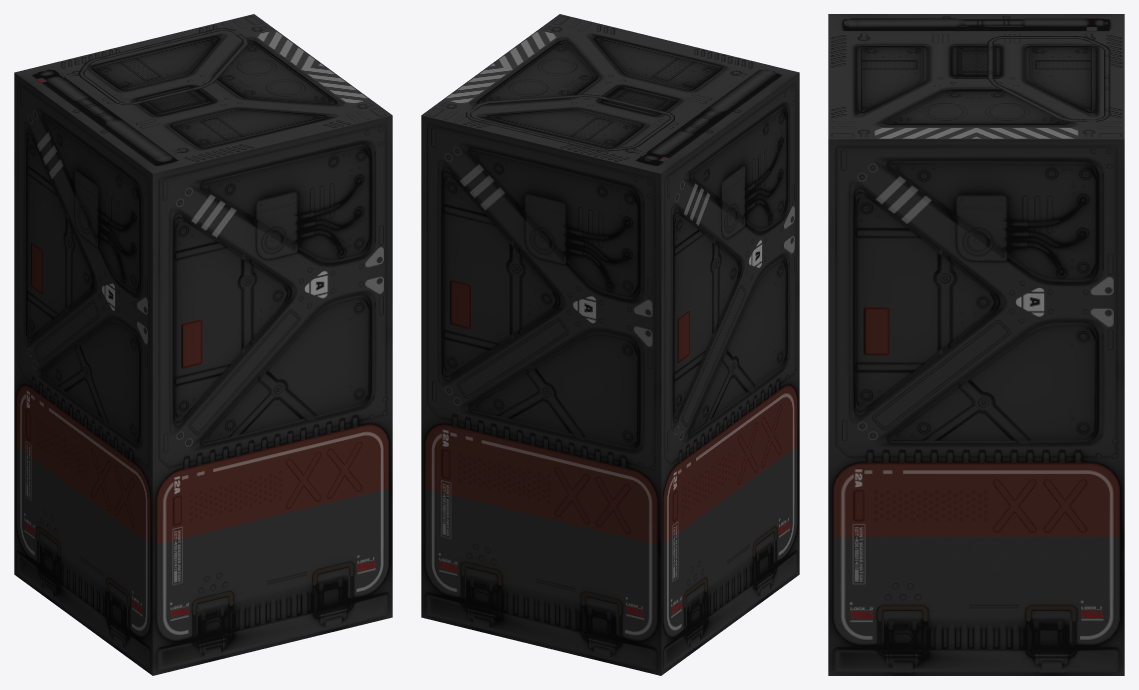
File: Panel_A_Box_1_L3.FBX
3 renders of one model, left to right at view 1: azimuth 30°, elevation 25°; view 2: azimuth 150°, elevation 25°; view 3: azimuth 270°, elevation 25°, orthographic. The views are drawn at different scales.
Parts seen in each view (by area): view 1: Panel_A_Box_1_L3; view 2: Panel_A_Box_1_L3; view 3: Panel_A_Box_1_L3.
Boxes of the visible parts, x1,y1,x2,y2 form: Panel_A_Box_1_L3: [14, 14, 392, 675]; Panel_A_Box_1_L3: [421, 14, 799, 675]; Panel_A_Box_1_L3: [828, 14, 1124, 675].
Bounding box in the file's own units: 100 × 204 × 100.
